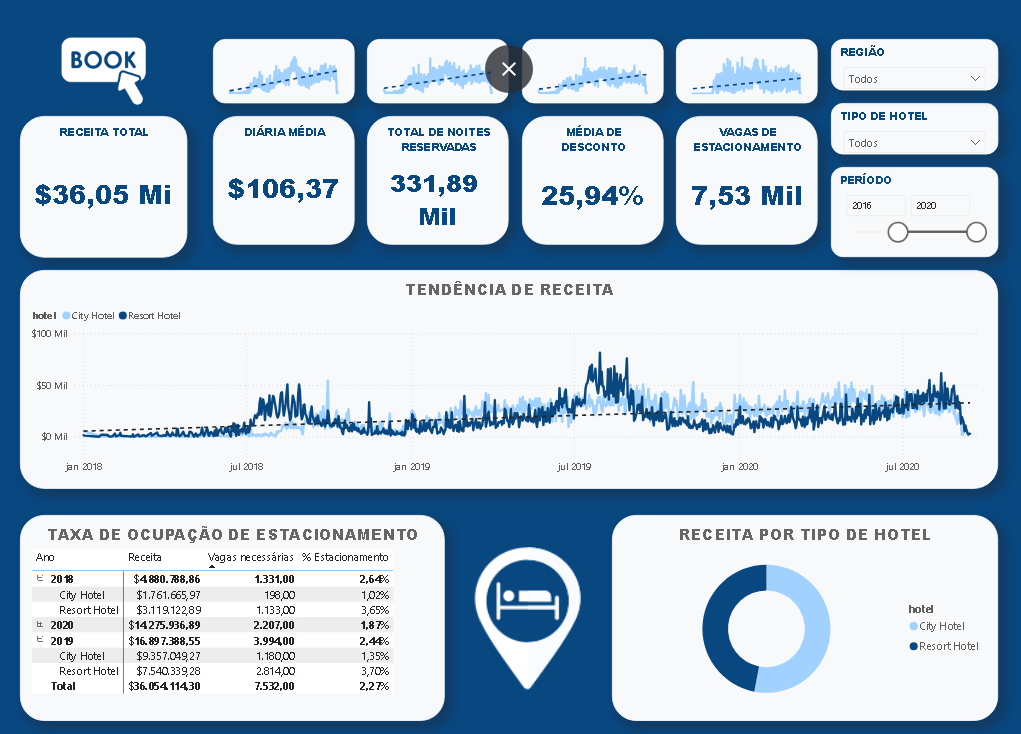

Layout of this report page (visuals, bound fields, positions):
{"tool":"powerbi","page":{"name":"Página 1","canvas":[1280,920],"ordinal":0},"visuals":[{"type":"card","title":"RECEITA TOTAL","fields":{"Values":["Sum(Consulta1.Revenue)"]},"box":[32,144,208,176],"z":0},{"type":"card","title":"DIÁRIA MÉDIA","fields":{"Values":["Avg(Consulta1.adr)"]},"box":[272,144,176,160],"z":1000},{"type":"card","title":" TOTAL DE NOITES RESERVADAS","fields":{"Values":["Consulta1.Total nights"]},"box":[464,144,176,160],"z":2000},{"type":"card","title":"MÉDIA DE DESCONTO","fields":{"Values":["Avg(Consulta1.Discount)"]},"box":[656,144,176,160],"z":3000},{"type":"lineChart","title":"TENDÊNCIA DE RECEITA","fields":{"Category":["Consulta1.reservation_status_date"],"Y":["Sum(Consulta1.Revenue)"],"Series":["Consulta1.hotel"]},"box":[32,336,1216,272],"z":4000},{"type":"slicer","title":"TIPO DE HOTEL","fields":{"Values":["Consulta1.hotel"]},"box":[1040,128,208,64],"z":5000},{"type":"slicer","title":"REGIÃO","fields":{"Values":["Consulta1.country"]},"box":[1040,48,208,64],"z":6000},{"type":"lineChart","fields":{"Category":["Consulta1.reservation_status_date"],"Y":["Sum(Consulta1.adr)"]},"box":[272,48,176,80],"z":7000},{"type":"lineChart","fields":{"Category":["Consulta1.reservation_status_date"],"Y":["Consulta1.Total nights"]},"box":[464,48,176,80],"z":8000},{"type":"lineChart","fields":{"Category":["Consulta1.reservation_status_date"],"Y":["Sum(Consulta1.Discount)"]},"box":[656,48,176,80],"z":9000},{"type":"card","title":"VAGAS DE ESTACIONAMENTO","fields":{"Values":["Sum(Consulta1.required_car_parking_spaces)"]},"box":[848,144,176,160],"z":10000},{"type":"lineChart","fields":{"Category":["Consulta1.reservation_status_date"],"Y":["Sum(Consulta1.required_car_parking_spaces)"]},"box":[848,48,176,80],"z":11000},{"type":"donutChart","title":"RECEITA POR TIPO DE HOTEL","fields":{"Series":["Consulta1.hotel"],"Y":["Sum(Consulta1.Revenue)"]},"box":[768,640,480,256],"z":12000},{"type":"pivotTable","title":"TAXA DE OCUPAÇÃO DE ESTACIONAMENTO","fields":{"Rows":["Consulta1.arrival_date_year","Consulta1.hotel"],"Values":["Sum(Consulta1.Revenue)","Sum(Consulta1.required_car_parking_spaces)","Consulta1.Parking Percentage"]},"box":[32,640,528,256],"z":13000},{"type":"slicer","title":"PERÍODO","fields":{"Values":["Consulta1.reservation_status_date.Variation.Hierarquia de datas.Ano"]},"box":[1040,208,208,112],"z":14000},{"type":"image","box":[560,672,208,192],"z":15000},{"type":"image","box":[32,32,208,112],"z":16000}]}

Visuals, with their boxes in screenshot pixels (x1, y1, x2, y2), scaled from the page's 1280x920 canvas onto the 1021x734 screenshot:
"RECEITA TOTAL" card: 26 115 191 255
"DIÁRIA MÉDIA" card: 217 115 357 243
" TOTAL DE NOITES RESERVADAS" card: 370 115 510 243
"MÉDIA DE DESCONTO" card: 523 115 664 243
"TENDÊNCIA DE RECEITA" lineChart: 26 268 995 485
"TIPO DE HOTEL" slicer: 830 102 995 153
"REGIÃO" slicer: 830 38 995 89
lineChart - Consulta1.reservation_status_date x Sum(Consulta1.adr): 217 38 357 102
lineChart - Consulta1.reservation_status_date x Consulta1.Total nights: 370 38 510 102
lineChart - Consulta1.reservation_status_date x Sum(Consulta1.Discount): 523 38 664 102
"VAGAS DE ESTACIONAMENTO" card: 676 115 817 243
lineChart - Consulta1.reservation_status_date x Sum(Consulta1.required_car_parking_spaces): 676 38 817 102
"RECEITA POR TIPO DE HOTEL" donutChart: 613 511 995 715
"TAXA DE OCUPAÇÃO DE ESTACIONAMENTO" pivotTable: 26 511 447 715
"PERÍODO" slicer: 830 166 995 255
image: 447 536 613 689
image: 26 26 191 115
